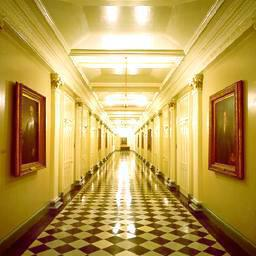Puerta: (59, 96, 75, 194), (177, 98, 186, 193)
